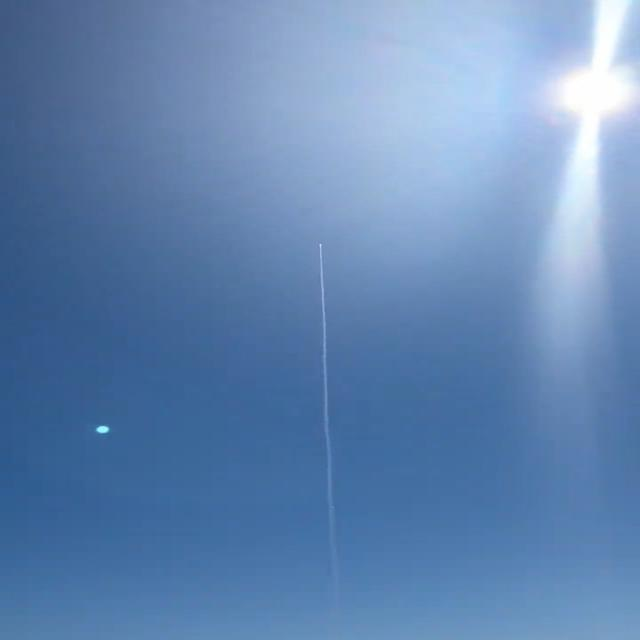Rocket: (319, 242, 322, 245)
